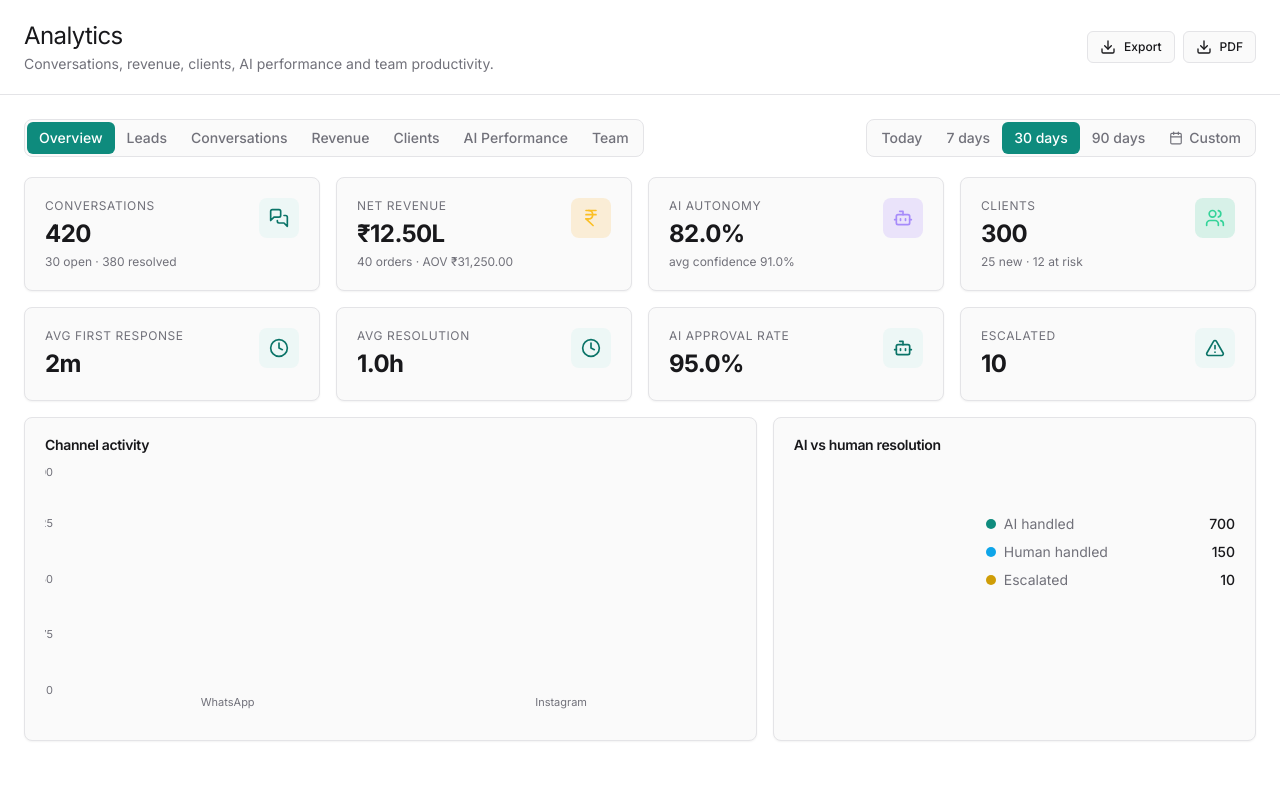
Scenario: AnalyticsPage tabs › puts the funnel and source ROI side by side on the Leads tab
Click the button "Leads".
click(147, 138)  # box [114,122,179,154]
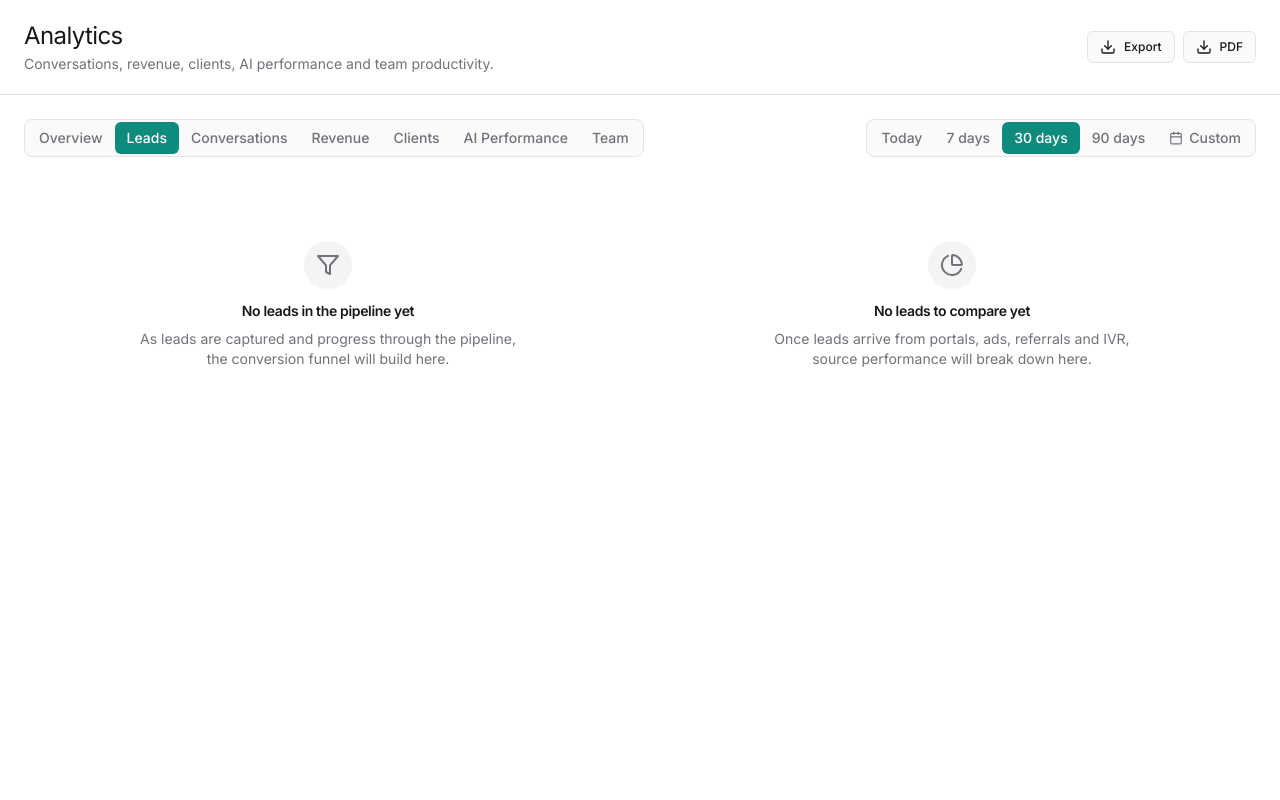
expect the heading "No leads in the pipeline yet" is shown: met, box [242,301,414,321]
expect the heading "No leads to compare yet" is shown: met, box [874,301,1030,321]
